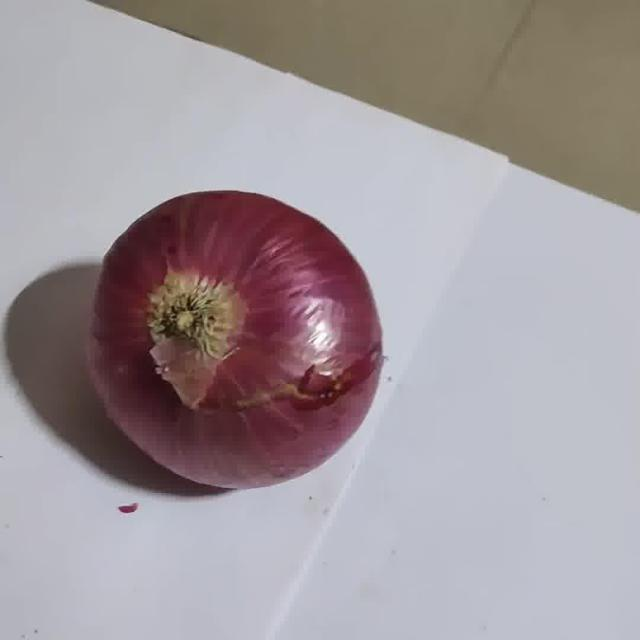Onion: (90, 191, 383, 489)
